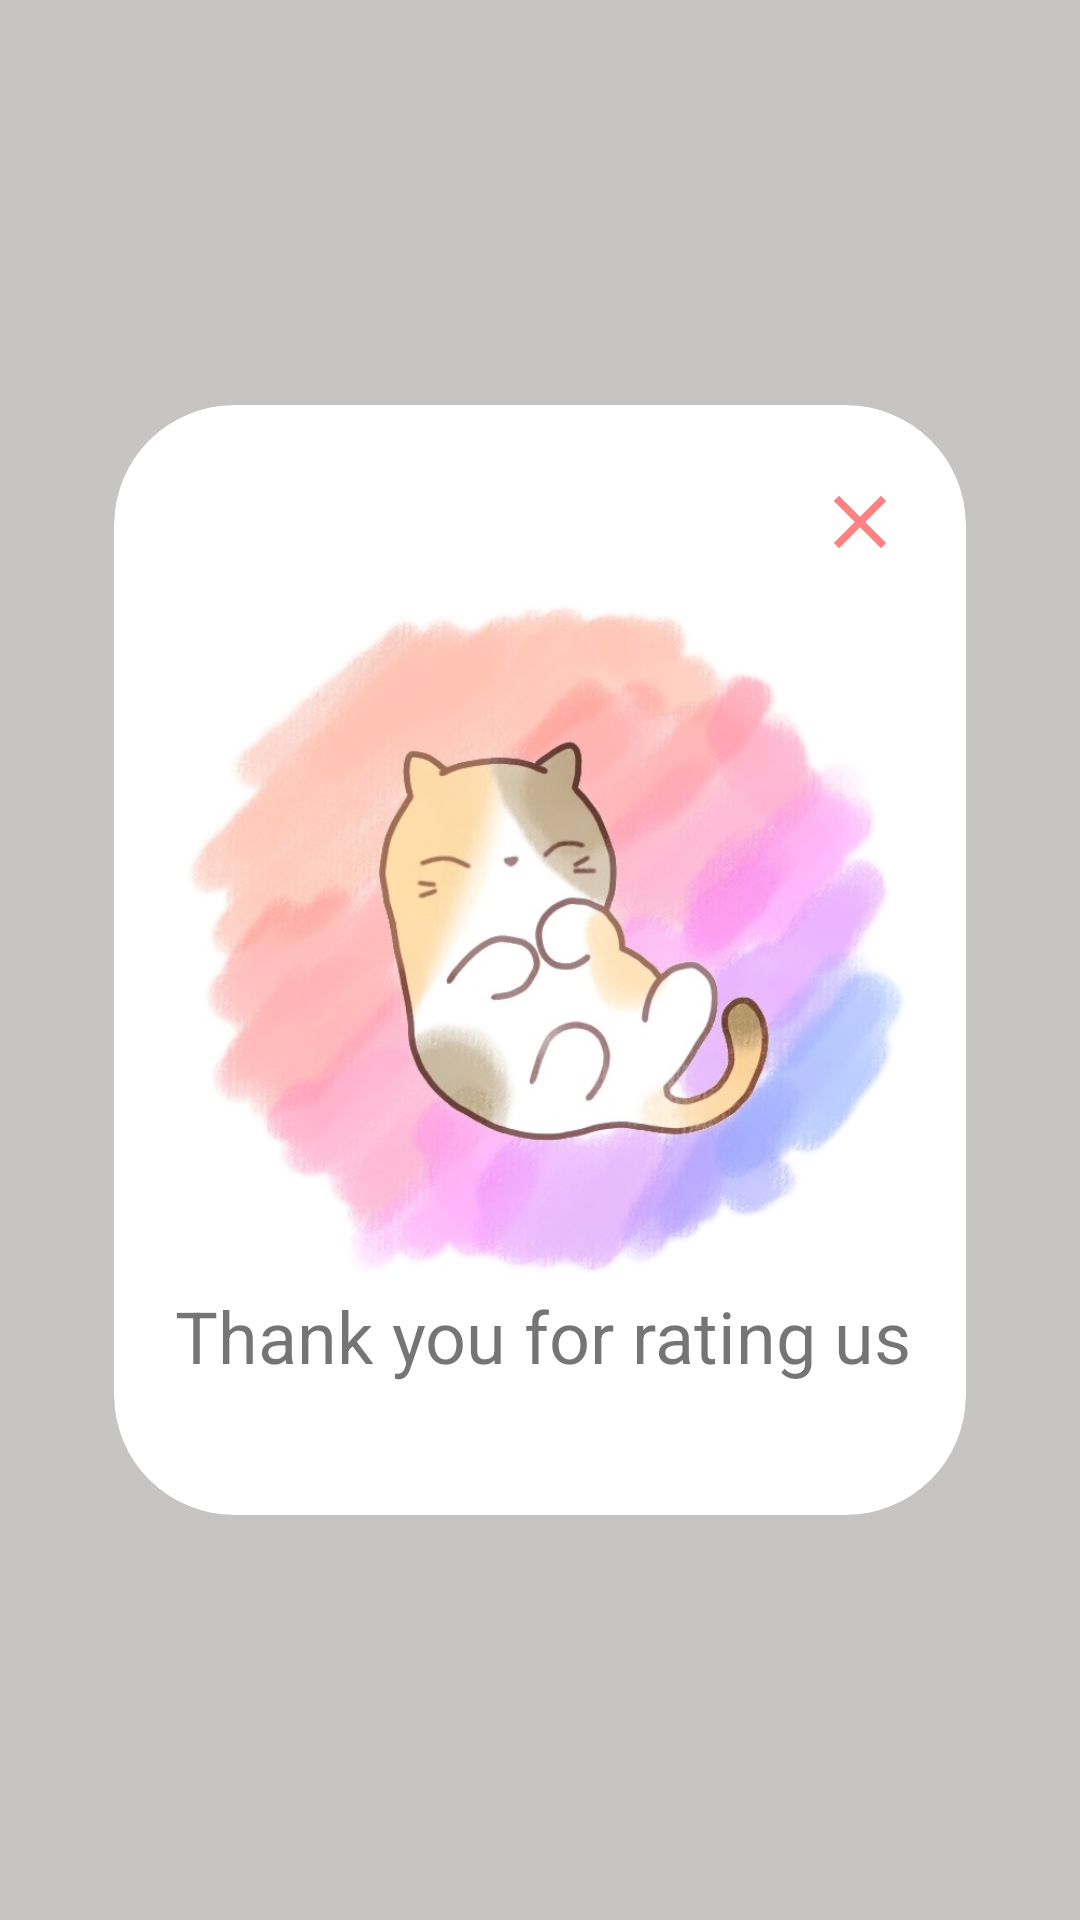

Locate icon controls on the screen. Image size 1080 × 1920, boxes as (x1, y1, x2, y2).
close: (834, 496, 886, 548)
